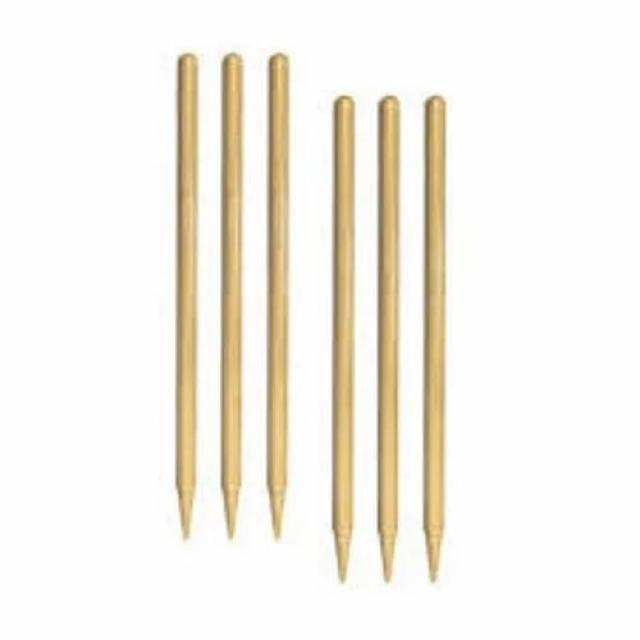stump: (170, 44, 288, 547), (330, 87, 447, 585)
